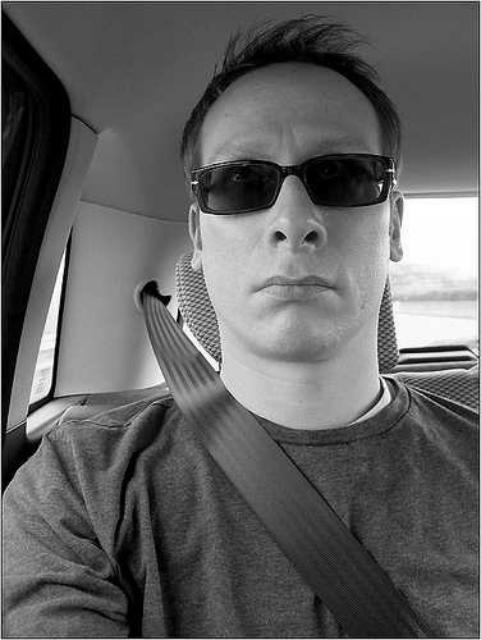SafeDriving: (210, 158, 273, 201)
Seatbelt: (135, 282, 442, 640)
